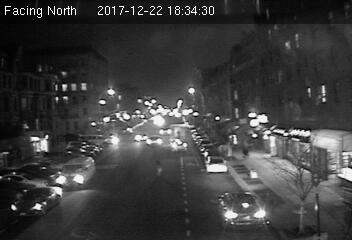car: (217, 189, 267, 228), (8, 185, 63, 216), (206, 156, 227, 173), (169, 139, 188, 151), (145, 135, 163, 146)
truck: (57, 157, 96, 190)
